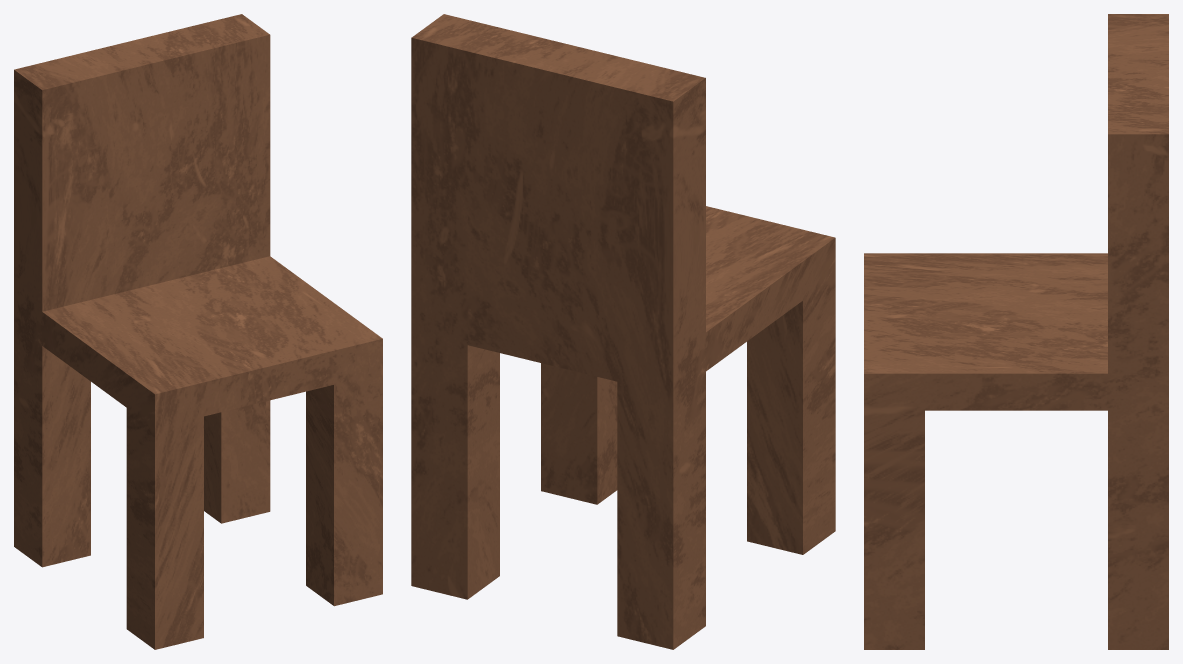
File: Chair.glb
3 views of the same model, side by side, from view 1: azimuth 30°, elevation 25°; view 2: azimuth 150°, elevation 25°; view 3: azimuth 270°, elevation 25° (orthographic). The views are drawn at different scales.
Parts seen in each view (by area): view 1: Chair; view 2: Chair; view 3: Chair.
Boxes of the visible parts, x1,y1,x2,y2 form: Chair: (14,14,382,649); Chair: (411,14,835,649); Chair: (864,14,1168,649).
Bounding box in the file's own units: 1.4 × 2.8 × 1.5.
Materials: 1 (1 with a texture image).
